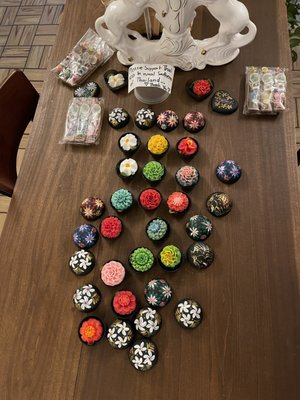pasta: (0, 69, 40, 198)
